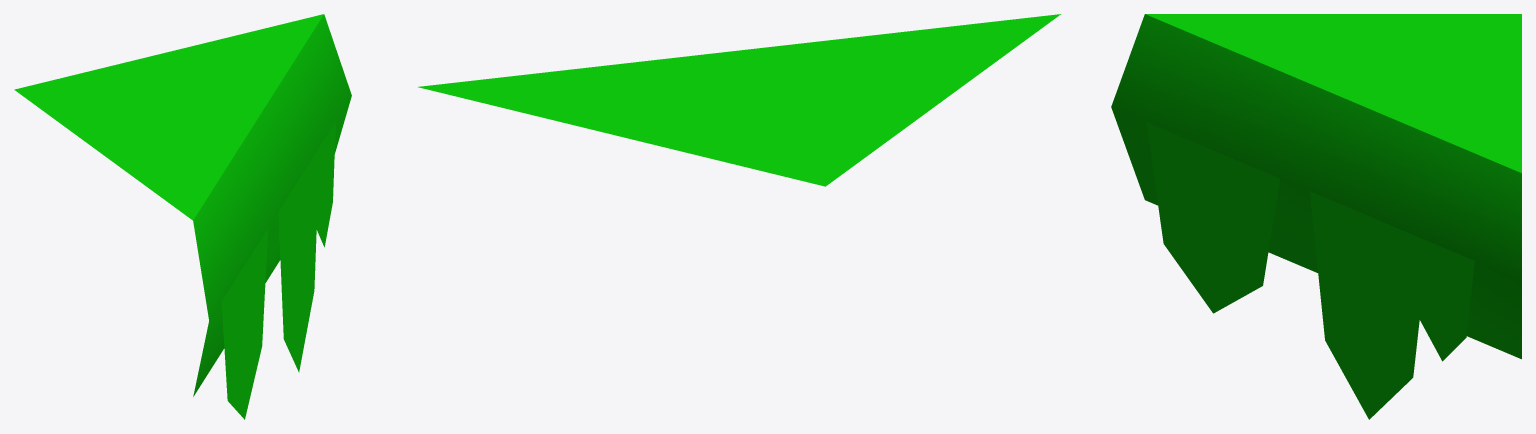
Rendered from Diagonal_TopFloor_002.glb.
3 renders of one model, left to right at view 1: azimuth 30°, elevation 25°; view 2: azimuth 150°, elevation 25°; view 3: azimuth 270°, elevation 25°, orthographic. The views are drawn at different scales.
Parts seen in each view (by area): view 1: Diagonal_TopFloor.002; view 2: Diagonal_TopFloor.002; view 3: Diagonal_TopFloor.002.
Part boxes in pixels (left/top/right/bottom): Diagonal_TopFloor.002: left=14, top=14, right=351, bottom=419; Diagonal_TopFloor.002: left=418, top=14, right=1060, bottom=186; Diagonal_TopFloor.002: left=1111, top=14, right=1521, bottom=419.
Bounding box in the file's own units: 0.5 × 0.3987 × 0.5.
